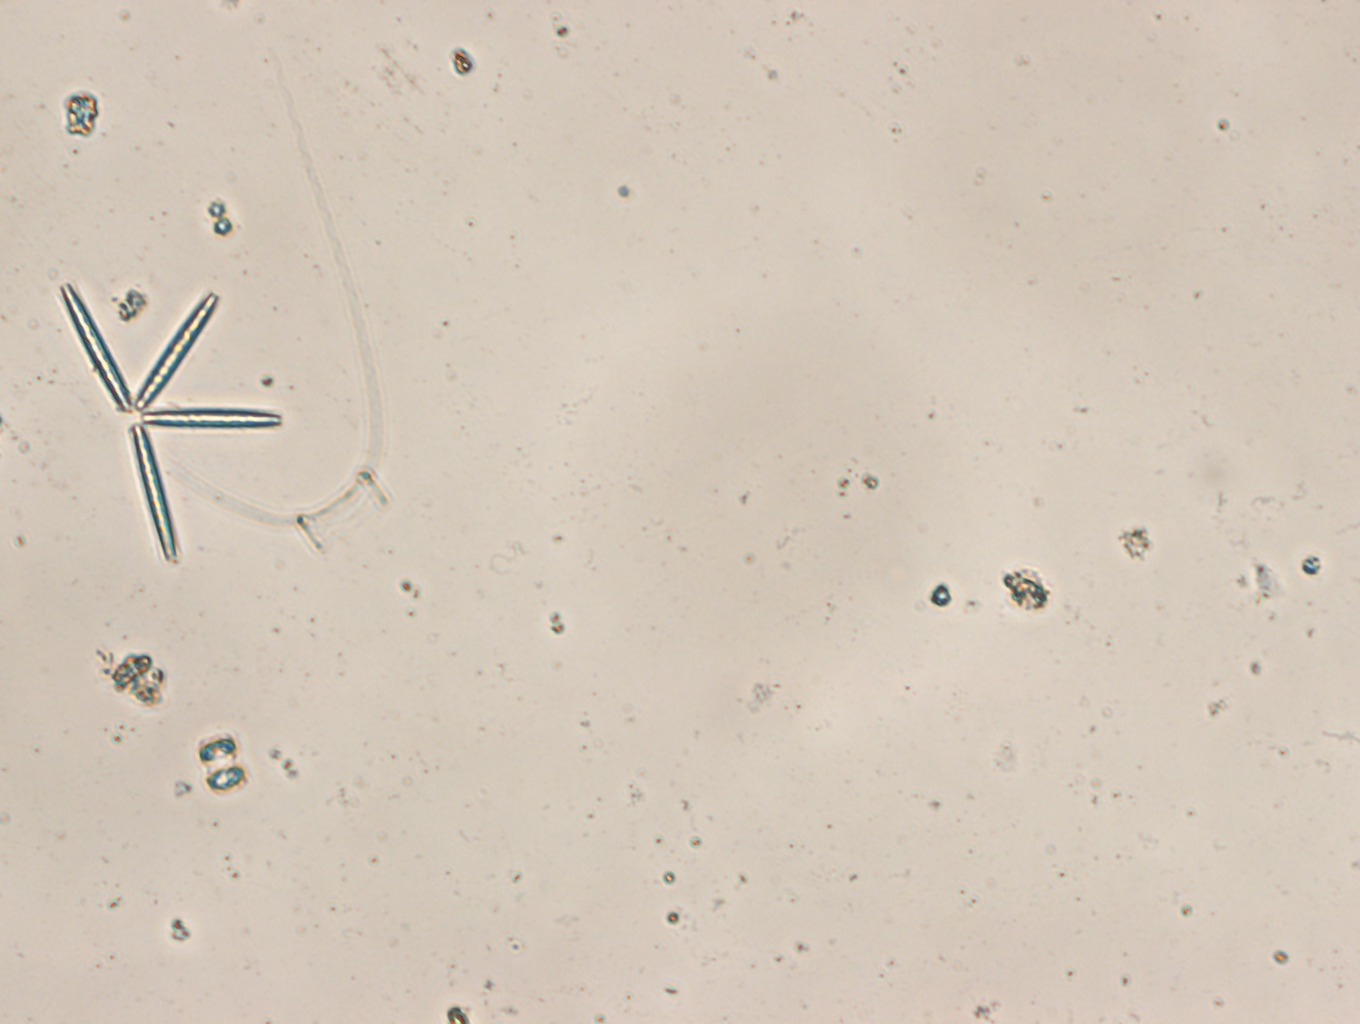thalassionema nitzschioides: (60, 284, 283, 560)
